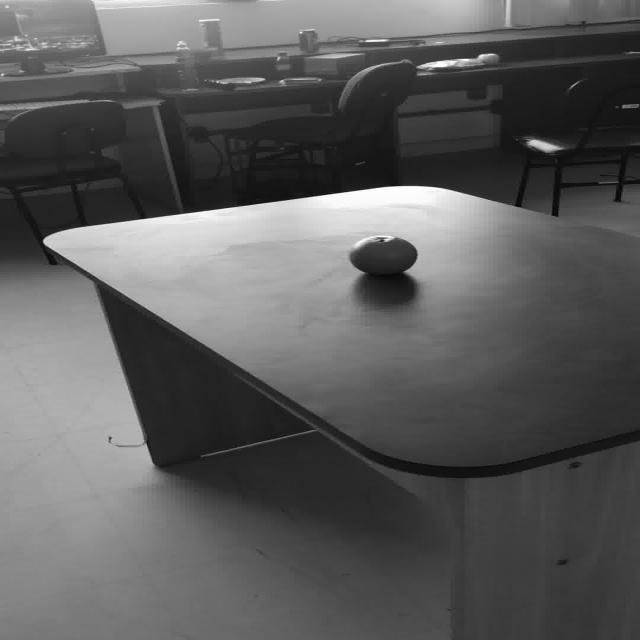orange: (347, 234, 417, 275), (476, 52, 499, 65)
